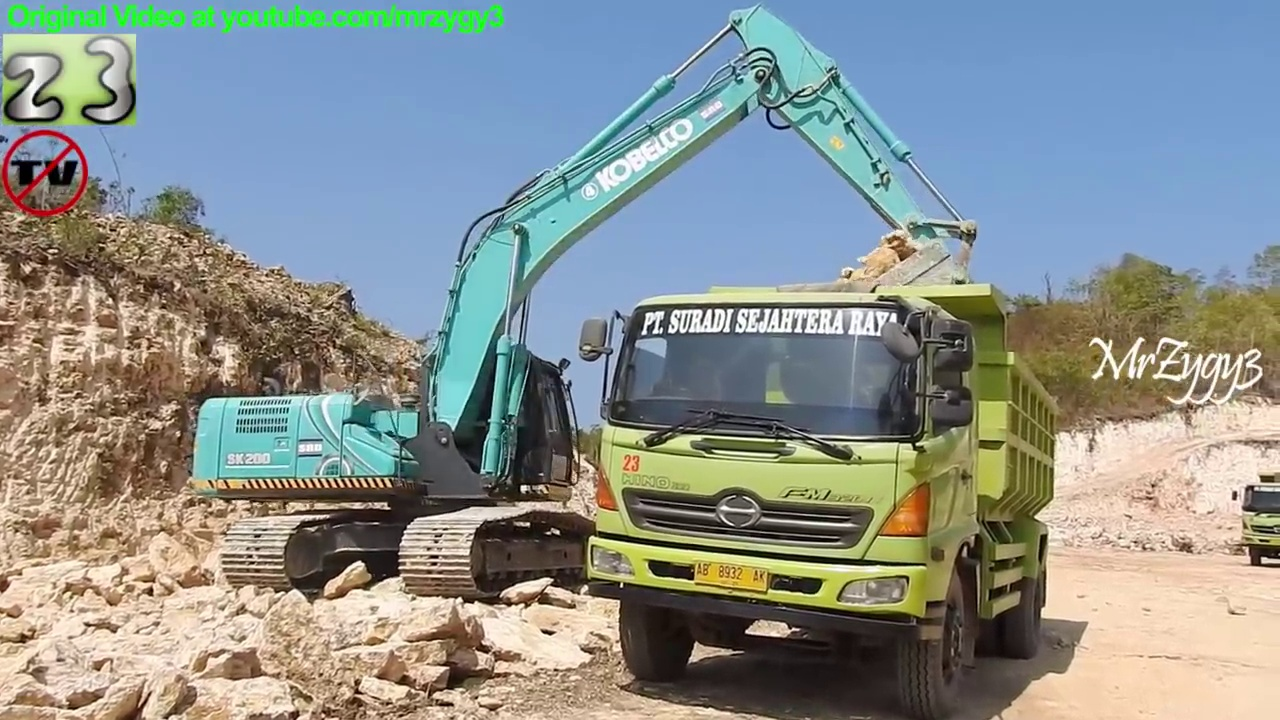excavator: (181, 2, 988, 609)
truck: (571, 275, 1066, 720), (1226, 468, 1280, 567)
